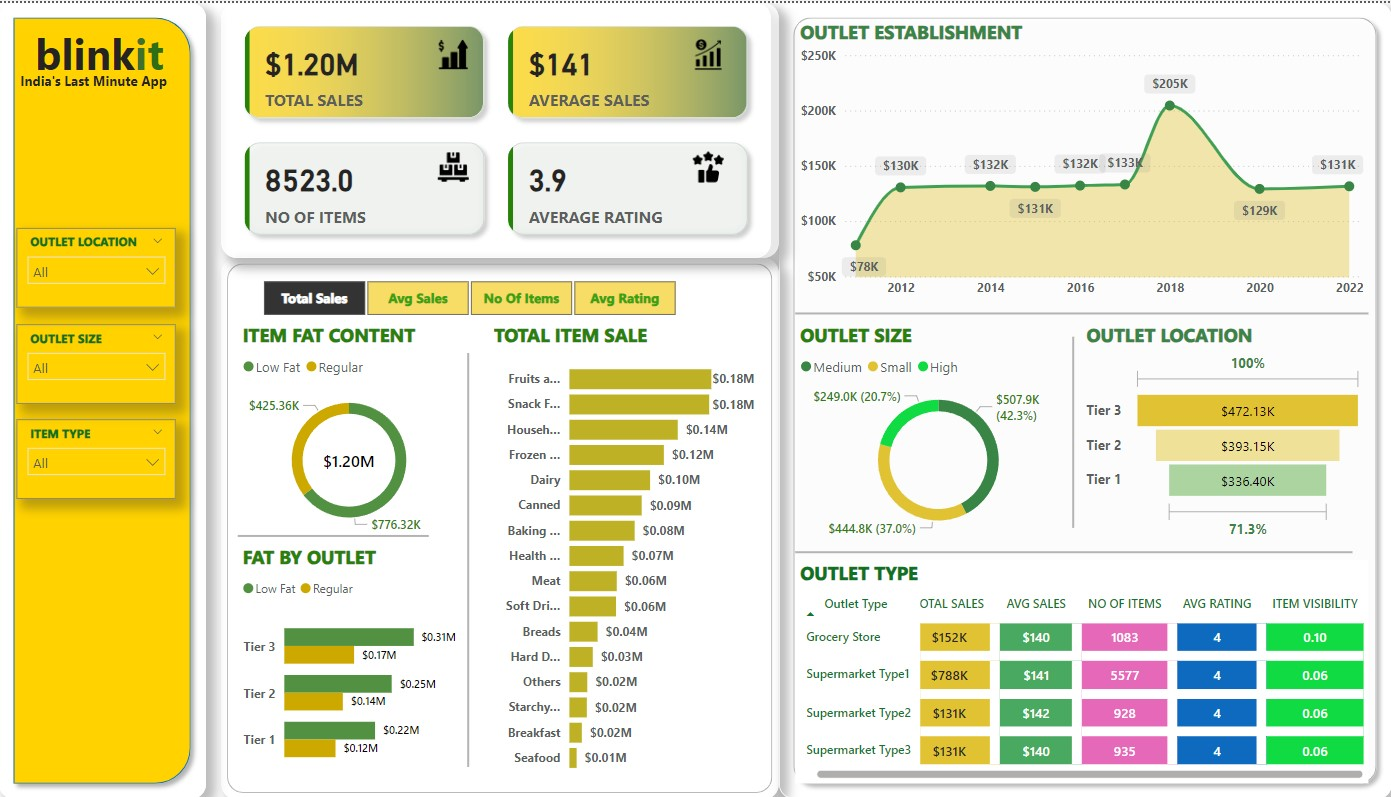

What the dashboard file says about the page in this screenshot:
{"tool":"powerbi","page":{"name":"Page 1","canvas":[1400,800],"ordinal":0},"visuals":[{"type":"shape","box":[0,0,208,800],"z":0},{"type":"textbox","box":[32,16,144,80],"z":1000},{"type":"textbox","box":[16,64,176,32],"z":2000},{"type":"shape","box":[224,256,560,544],"z":4000},{"type":"donutChart","title":"ITEM FAT CONTENT","fields":{"Y":["BlinkIT Grocery Data.Total Sales"],"Category":["BlinkIT Grocery Data.Item Fat Content"]},"box":[252,320.4,208,224],"z":5000},{"type":"slicer","fields":{"Values":["Metrics.Metrics"]},"box":[240,272,464,48],"z":6000},{"type":"cardVisual","fields":{"Data":["BlinkIT Grocery Data.Total Sales"]},"box":[304,416,112,80],"z":7000},{"type":"clusteredBarChart","title":"FAT BY OUTLET","fields":{"Y":["BlinkIT Grocery Data.Total Sales"],"Series":["BlinkIT Grocery Data.Item Fat Content"],"Category":["BlinkIT Grocery Data.Outlet Location Type"]},"box":[240,544,208,240],"z":8000},{"type":"shape","box":[464,352,16,416],"z":9000},{"type":"barChart","title":"TOTAL ITEM SALE","fields":{"Category":["BlinkIT Grocery Data.Item Type"],"Y":["BlinkIT Grocery Data.Total Sales"]},"box":[492,320.4,272,464],"z":10000},{"type":"shape","box":[784,0,616,800],"z":11000},{"type":"areaChart","title":"OUTLET ESTABLISHMENT","fields":{"Y":["BlinkIT Grocery Data.Total Sales"],"Category":["BlinkIT Grocery Data.Outlet Establishment Year"]},"box":[816,16,560,288],"z":12000},{"type":"shape","box":[800,304,576,16],"z":13000},{"type":"funnel","title":"OUTLET LOCATION","fields":{"Y":["BlinkIT Grocery Data.Total Sales"],"Category":["BlinkIT Grocery Data.Outlet Location Type"]},"box":[1088,320,288,208],"z":14000},{"type":"donutChart","title":"OUTLET SIZE","fields":{"Y":["BlinkIT Grocery Data.Total Sales"],"Category":["BlinkIT Grocery Data.Outlet Size"]},"box":[816,320,272,208],"z":15000},{"type":"shape","box":[240,528,192,16],"z":16000},{"type":"shape","box":[1072,336,16,192],"z":17000},{"type":"shape","box":[800,544,560,16],"z":18000},{"type":"pivotTable","title":"OUTLET TYPE","fields":{"Rows":["BlinkIT Grocery Data.Outlet Type"],"Values":["BlinkIT Grocery Data.Total Sales","BlinkIT Grocery Data.Avg Sales","BlinkIT Grocery Data.No Of Items","BlinkIT Grocery Data.Avg Rating","Avg(BlinkIT Grocery Data.Item Visibility)"]},"box":[816,560,560,224],"z":19000},{"type":"slicer","fields":{"Values":["BlinkIT Grocery Data.Outlet Location Type"]},"box":[18.2,226.6,160,80],"z":20000},{"type":"slicer","fields":{"Values":["BlinkIT Grocery Data.Outlet Size"]},"box":[18.2,322.6,160,80],"z":21000},{"type":"slicer","fields":{"Values":["BlinkIT Grocery Data.Item Type"]},"box":[18.2,418.6,160,80],"z":22000},{"type":"shape","box":[224,0,560,256],"z":23000},{"type":"cardVisual","fields":{"Data":["BlinkIT Grocery Data.Total_Sales","BlinkIT Grocery Data.Avg_Sales","BlinkIT Grocery Data.No_Of_Items","BlinkIT Grocery Data.Avg_Rating"]},"box":[224,0,552,256],"z":23001}]}

Visuals, with their boxes in screenshot pixels (x1, y1, x2, y2), scaled from the page's 1400x800 canvas onto the 1391x797 screenshot:
shape: 0 0 207 796
textbox: 32 16 175 96
textbox: 16 64 191 96
shape: 223 255 779 796
"ITEM FAT CONTENT" donutChart: 250 319 457 542
slicer - Metrics.Metrics: 238 271 699 319
cardVisual - BlinkIT Grocery Data.Total Sales: 302 414 413 494
"FAT BY OUTLET" clusteredBarChart: 238 542 445 781
shape: 461 351 477 765
"TOTAL ITEM SALE" barChart: 489 319 759 781
shape: 779 0 1390 796
"OUTLET ESTABLISHMENT" areaChart: 811 16 1367 303
shape: 795 303 1367 319
"OUTLET LOCATION" funnel: 1081 319 1367 526
"OUTLET SIZE" donutChart: 811 319 1081 526
shape: 238 526 429 542
shape: 1065 335 1081 526
shape: 795 542 1351 558
"OUTLET TYPE" pivotTable: 811 558 1367 781
slicer - BlinkIT Grocery Data.Outlet Location Type: 18 226 177 305
slicer - BlinkIT Grocery Data.Outlet Size: 18 321 177 401
slicer - BlinkIT Grocery Data.Item Type: 18 417 177 497
shape: 223 0 779 255
cardVisual - BlinkIT Grocery Data.Total_Sales x BlinkIT Grocery Data.Avg_Sales: 223 0 771 255
